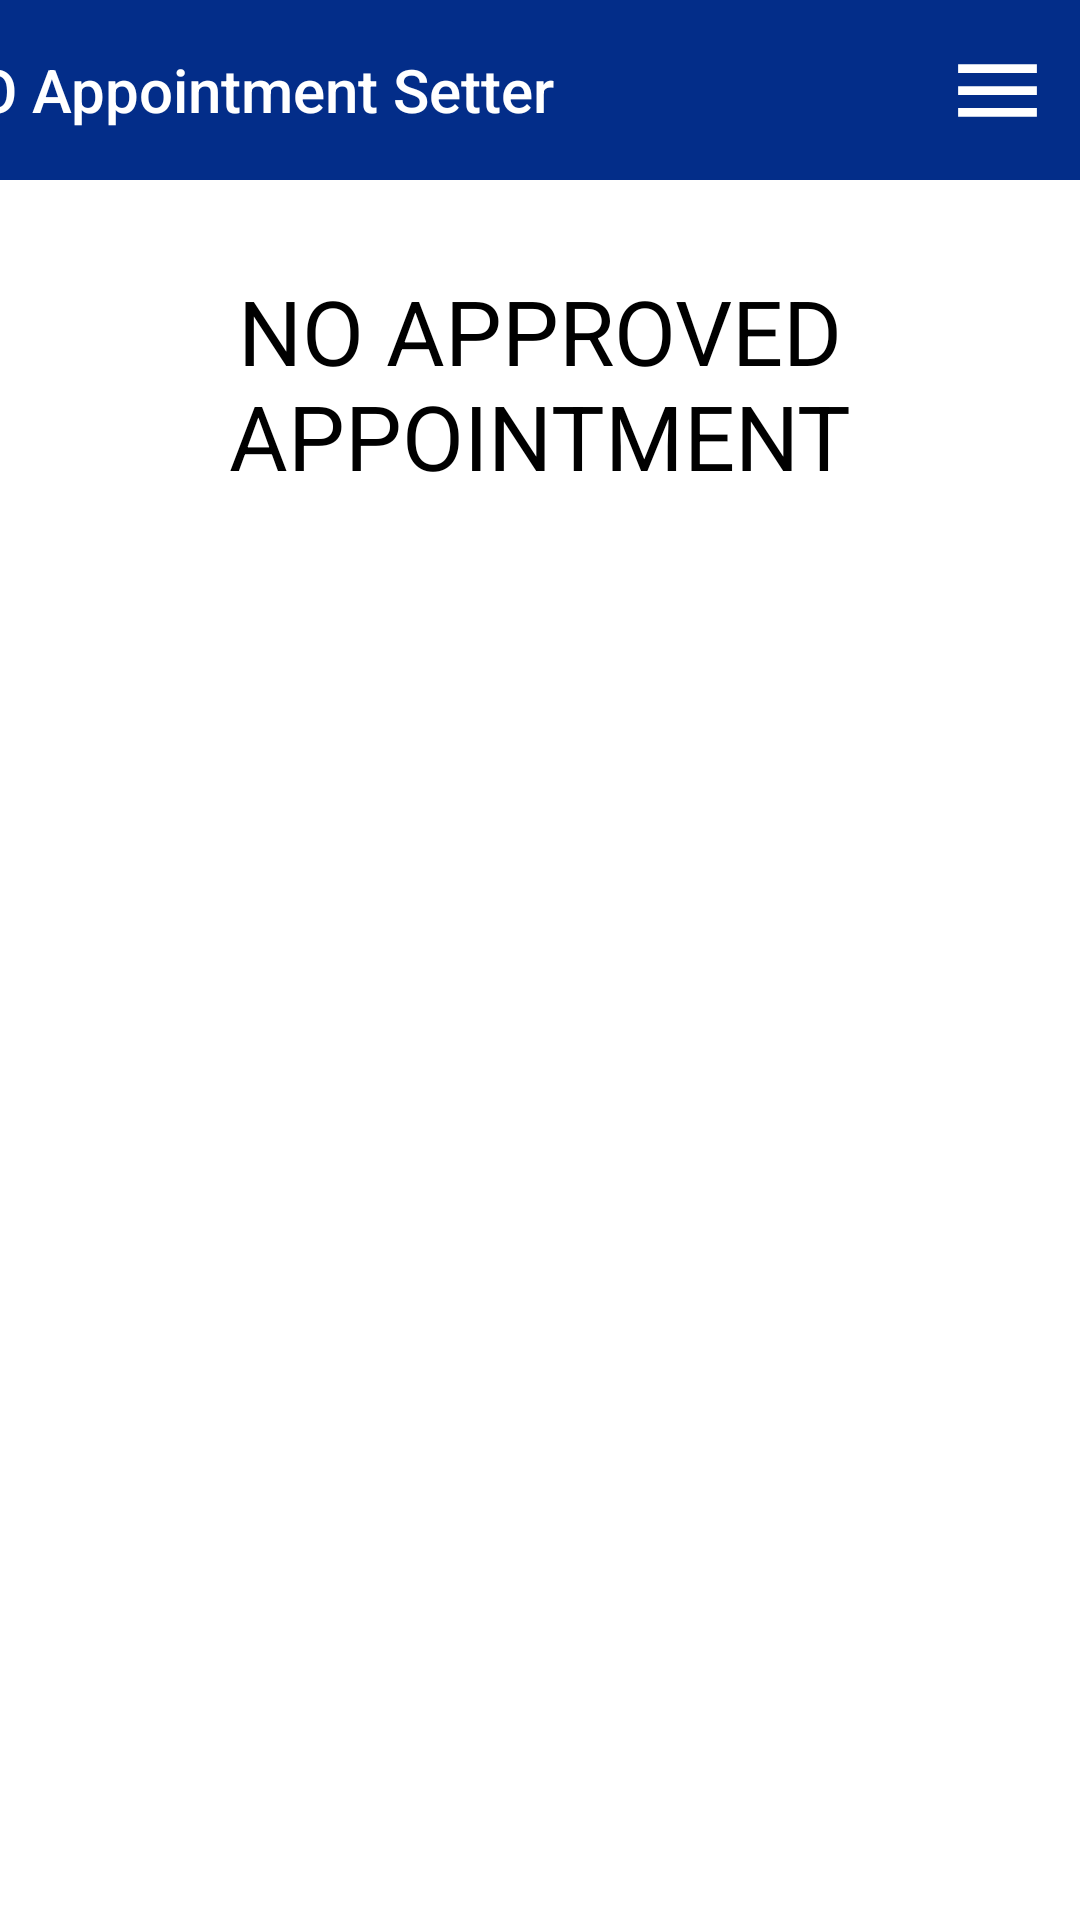

Icon click points for this 1080px x 1920px phone screenshot, format (x=x, y=y):
menu: (x=997, y=90)
